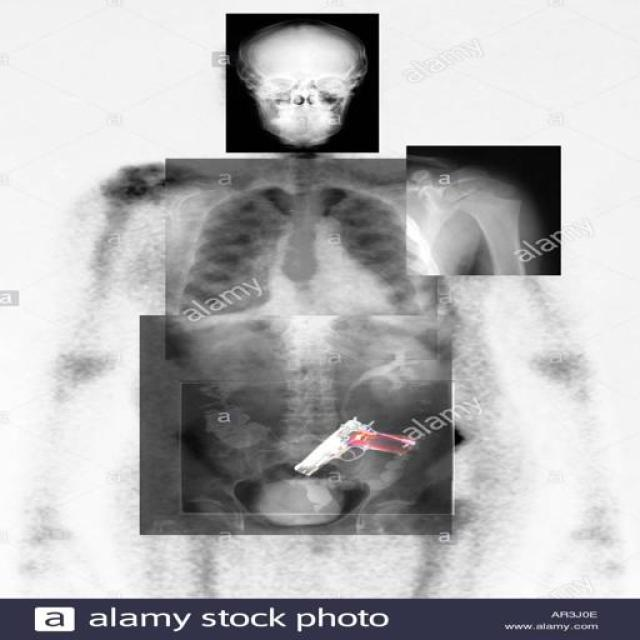pistol: (287, 416, 420, 482)
